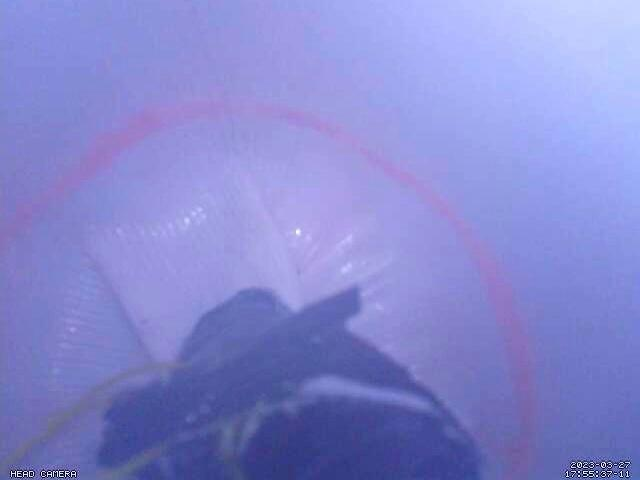head: (1, 96, 540, 480)
